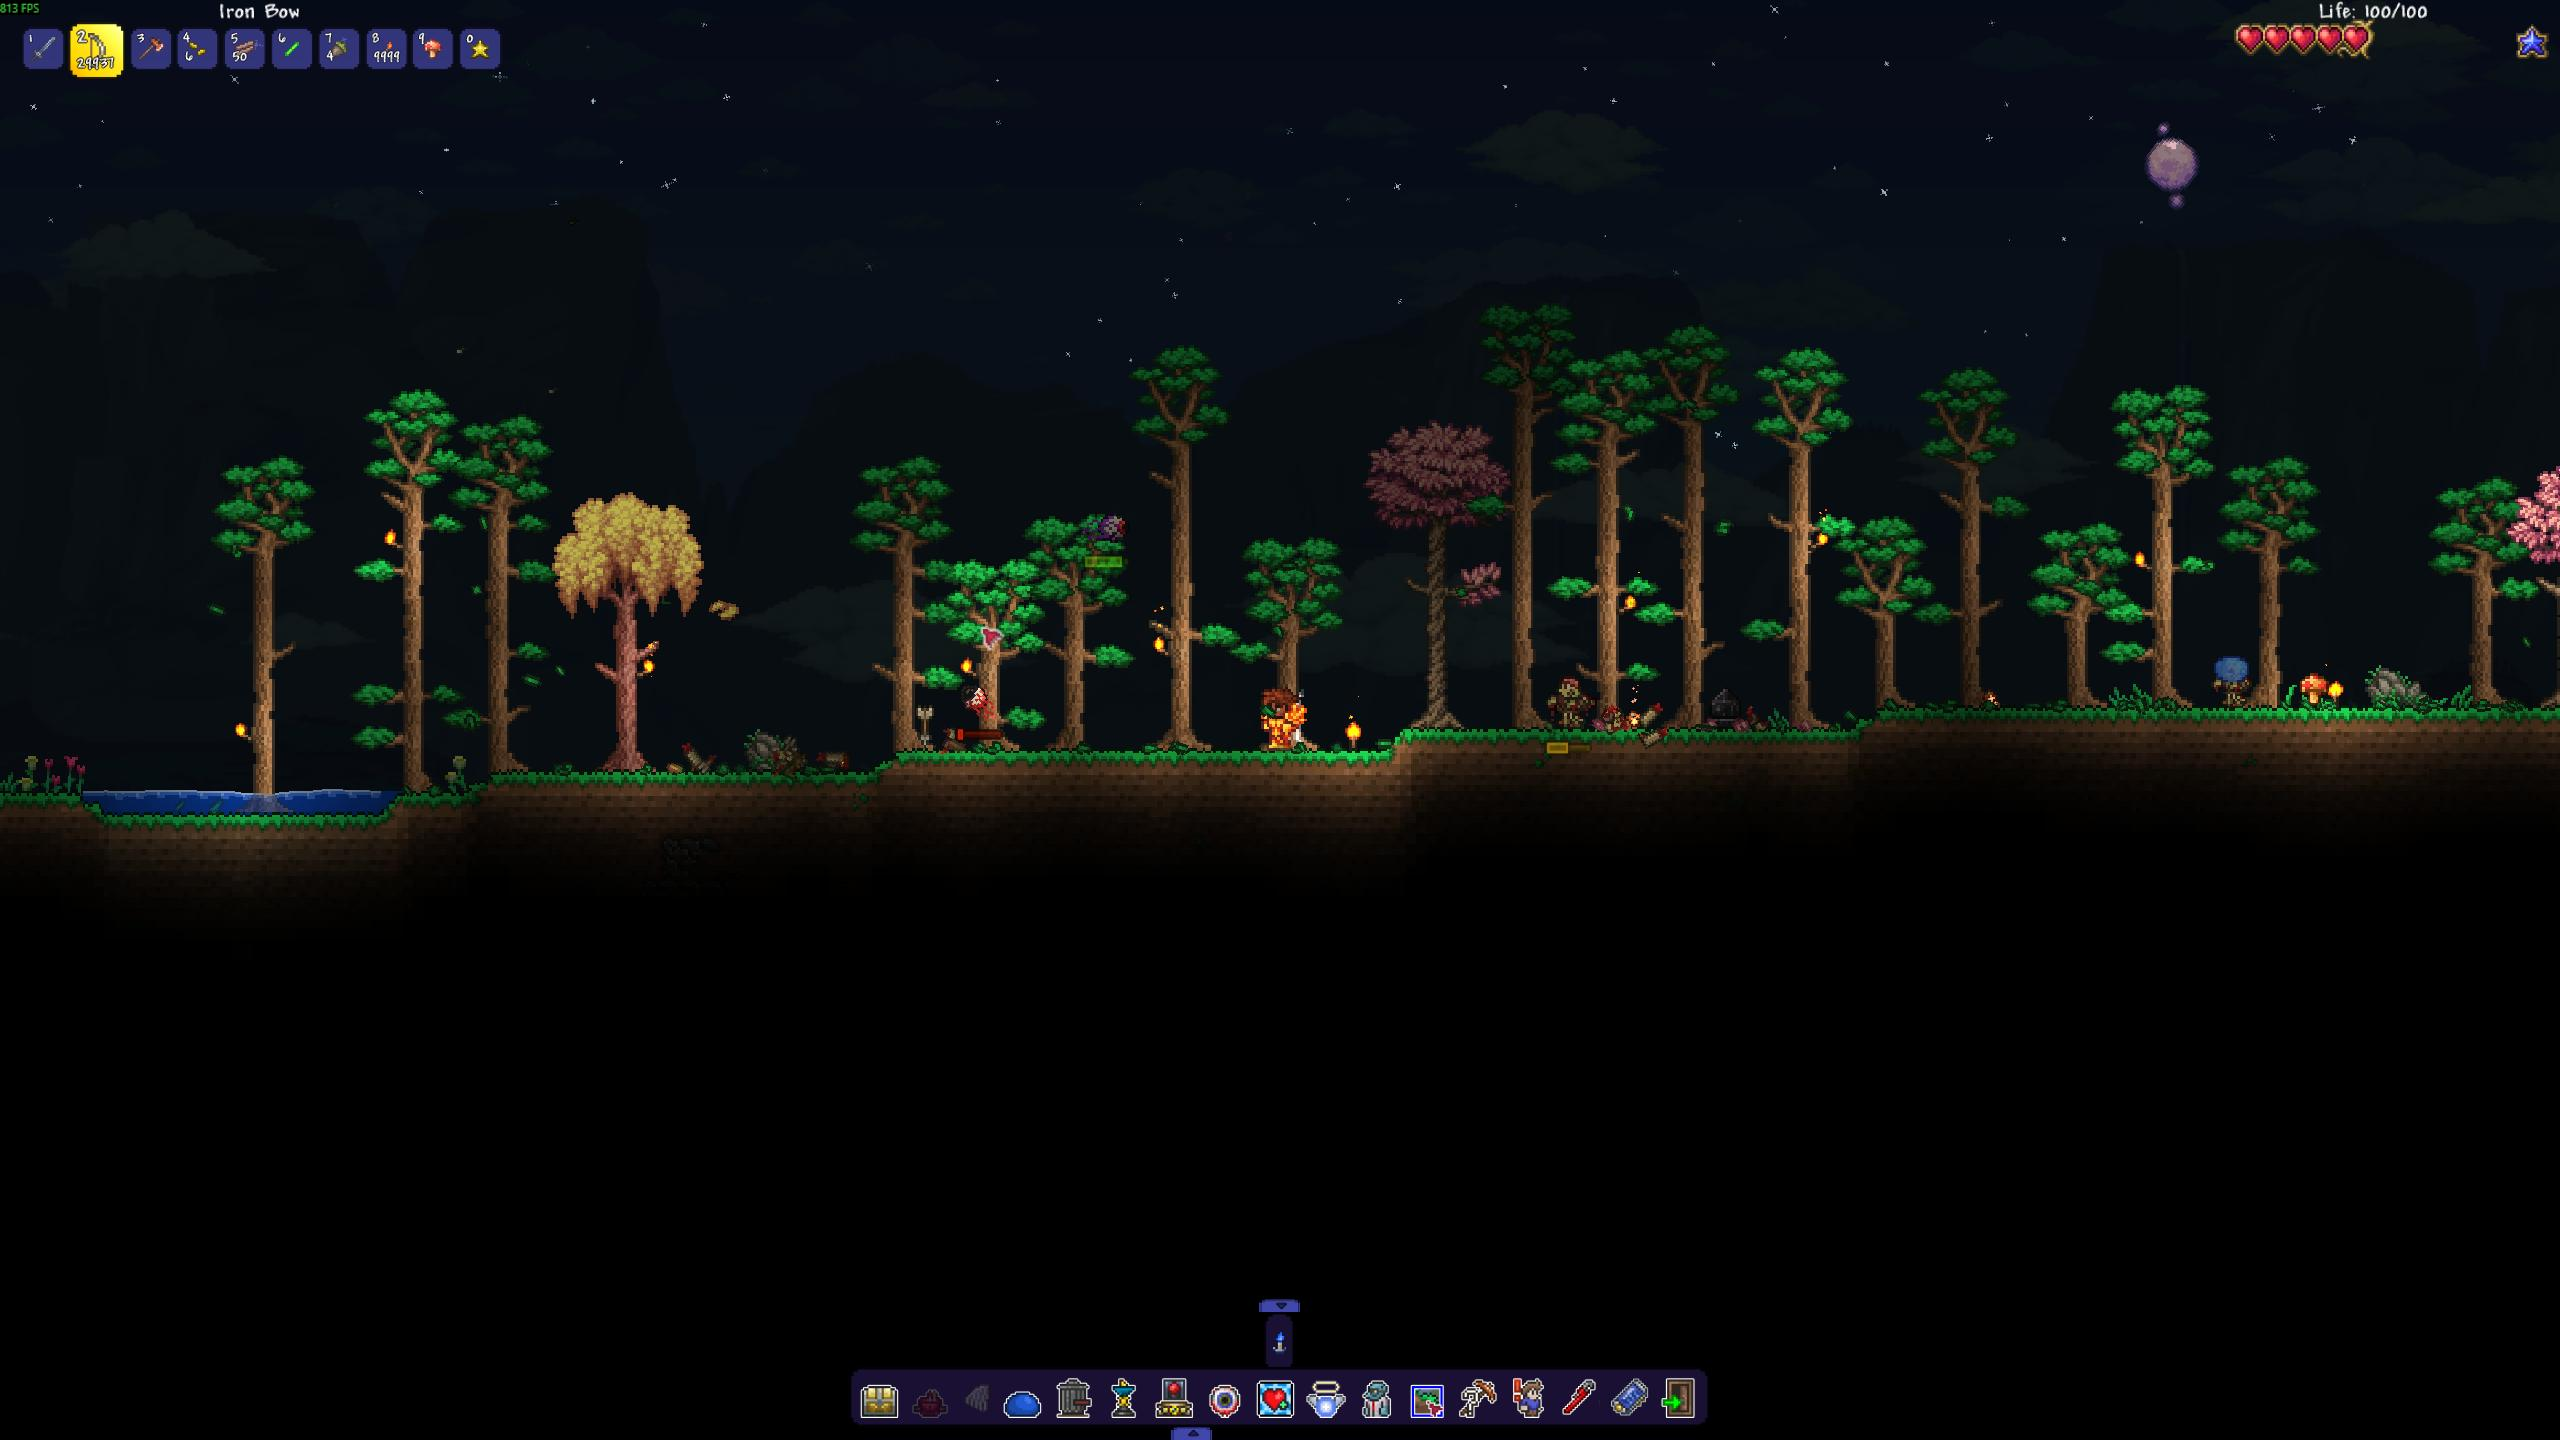Demon Eye: (1081, 508, 1131, 545), (958, 680, 999, 724)
Zombie: (1545, 670, 1589, 730), (2212, 651, 2252, 707)
